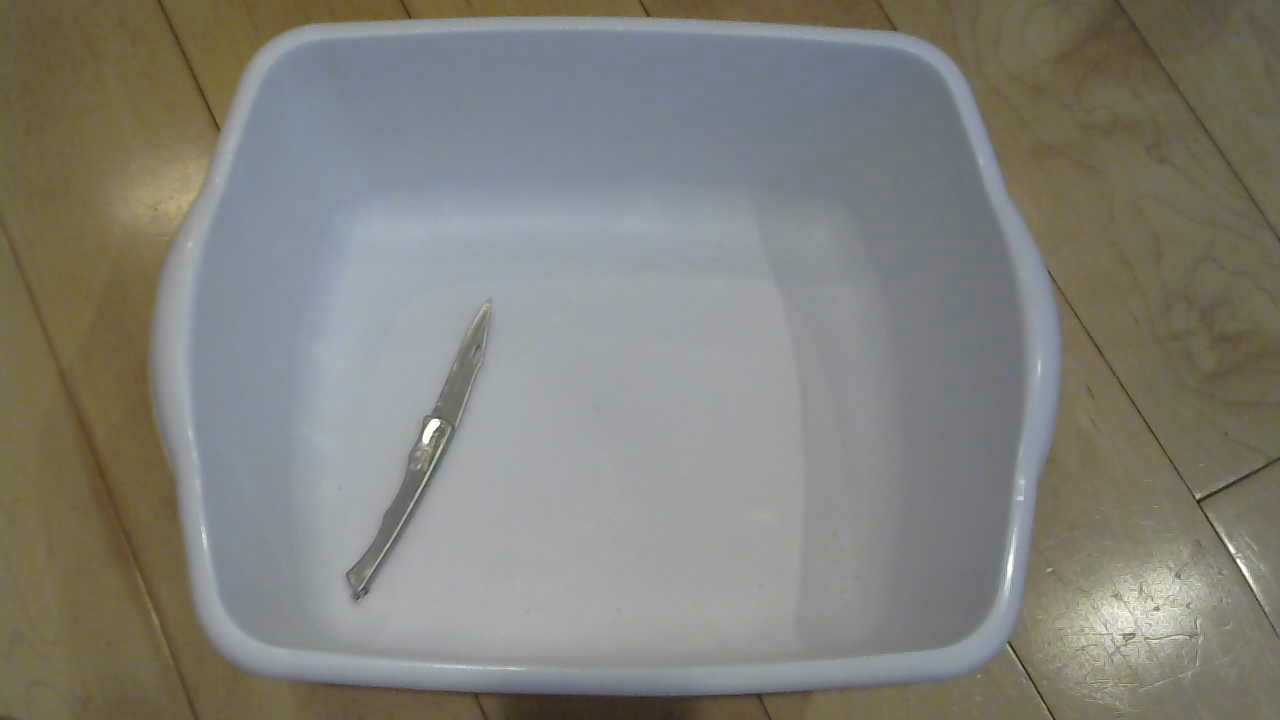knife: (327, 299, 512, 609)
